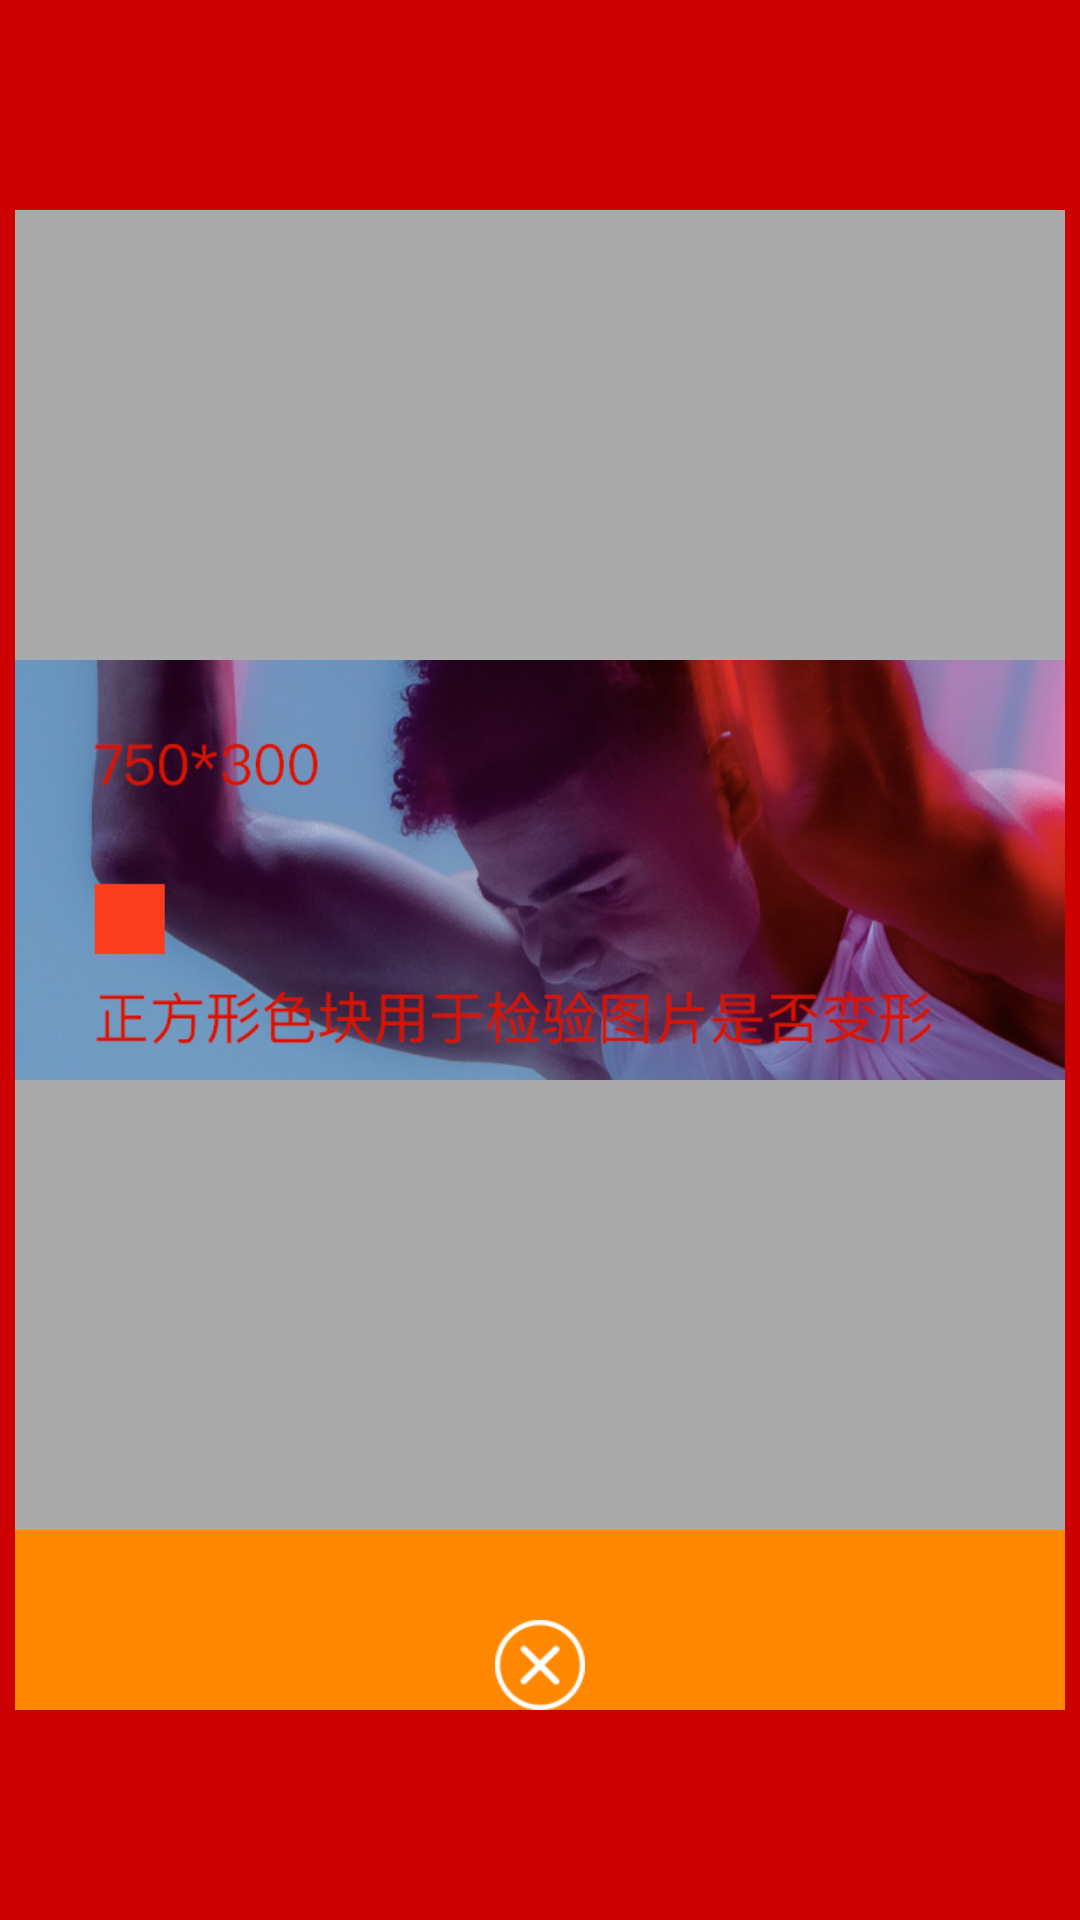

Point at icon controls on the screen. Image size 1080 × 1920, points as (x=x, y=y).
coupon close: (x=540, y=1665)
